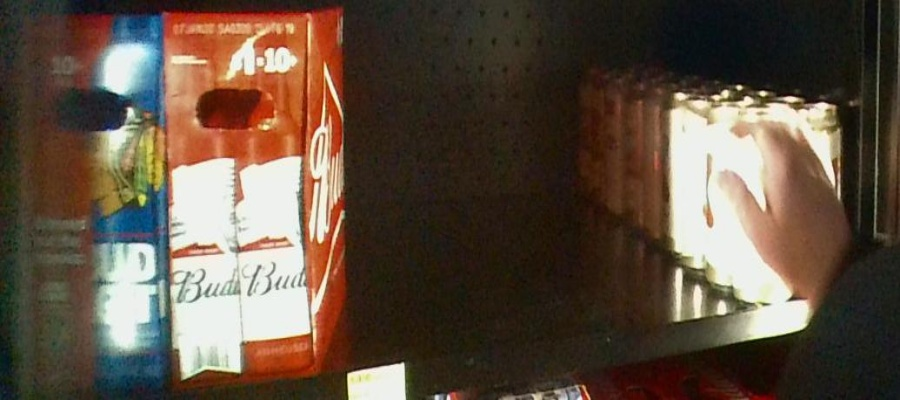bottle: (165, 13, 343, 380), (1, 15, 170, 391), (736, 106, 850, 309)
